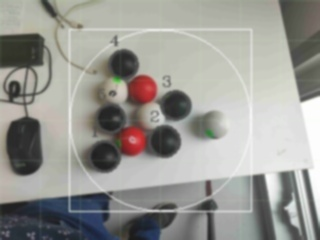Pelota blanca: (0, 33, 52, 105), (279, 0, 320, 40), (199, 109, 230, 141), (133, 101, 165, 130), (97, 77, 129, 105)
Pelota negra: (5, 117, 42, 177), (89, 139, 122, 174), (159, 89, 192, 123), (149, 125, 182, 159), (107, 47, 141, 78), (125, 213, 160, 240), (95, 103, 126, 132)
Pelota roja: (127, 73, 159, 105), (119, 125, 146, 156)
